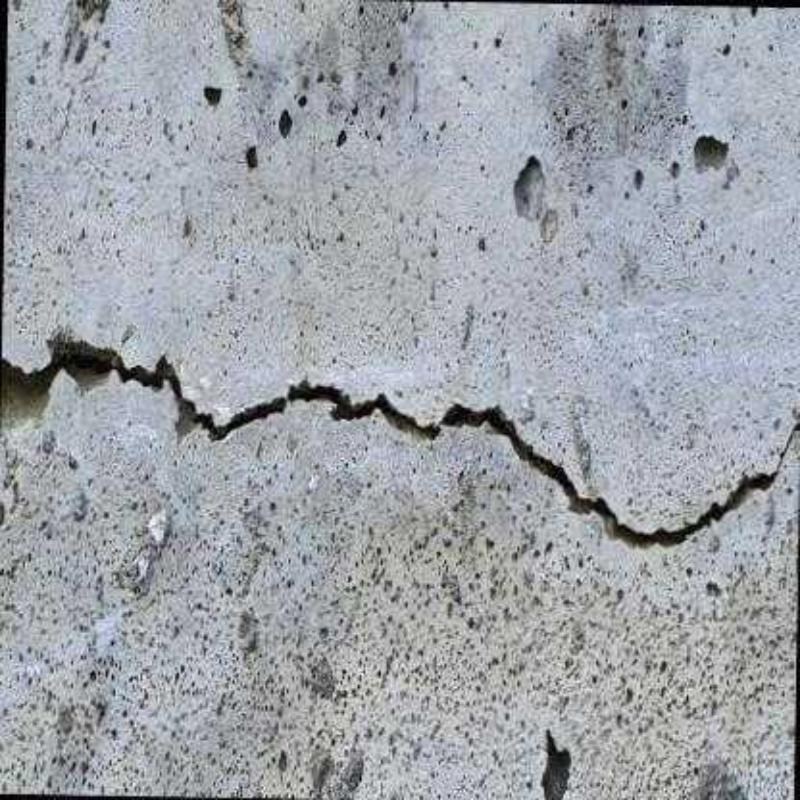crack: (0, 326, 800, 552)
